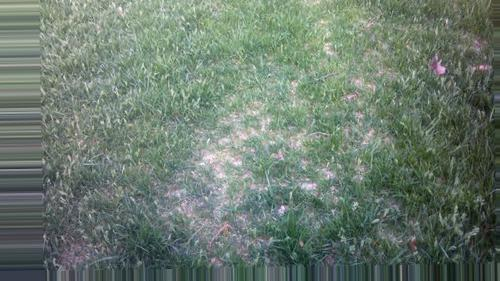patch: (204, 145, 252, 185)
